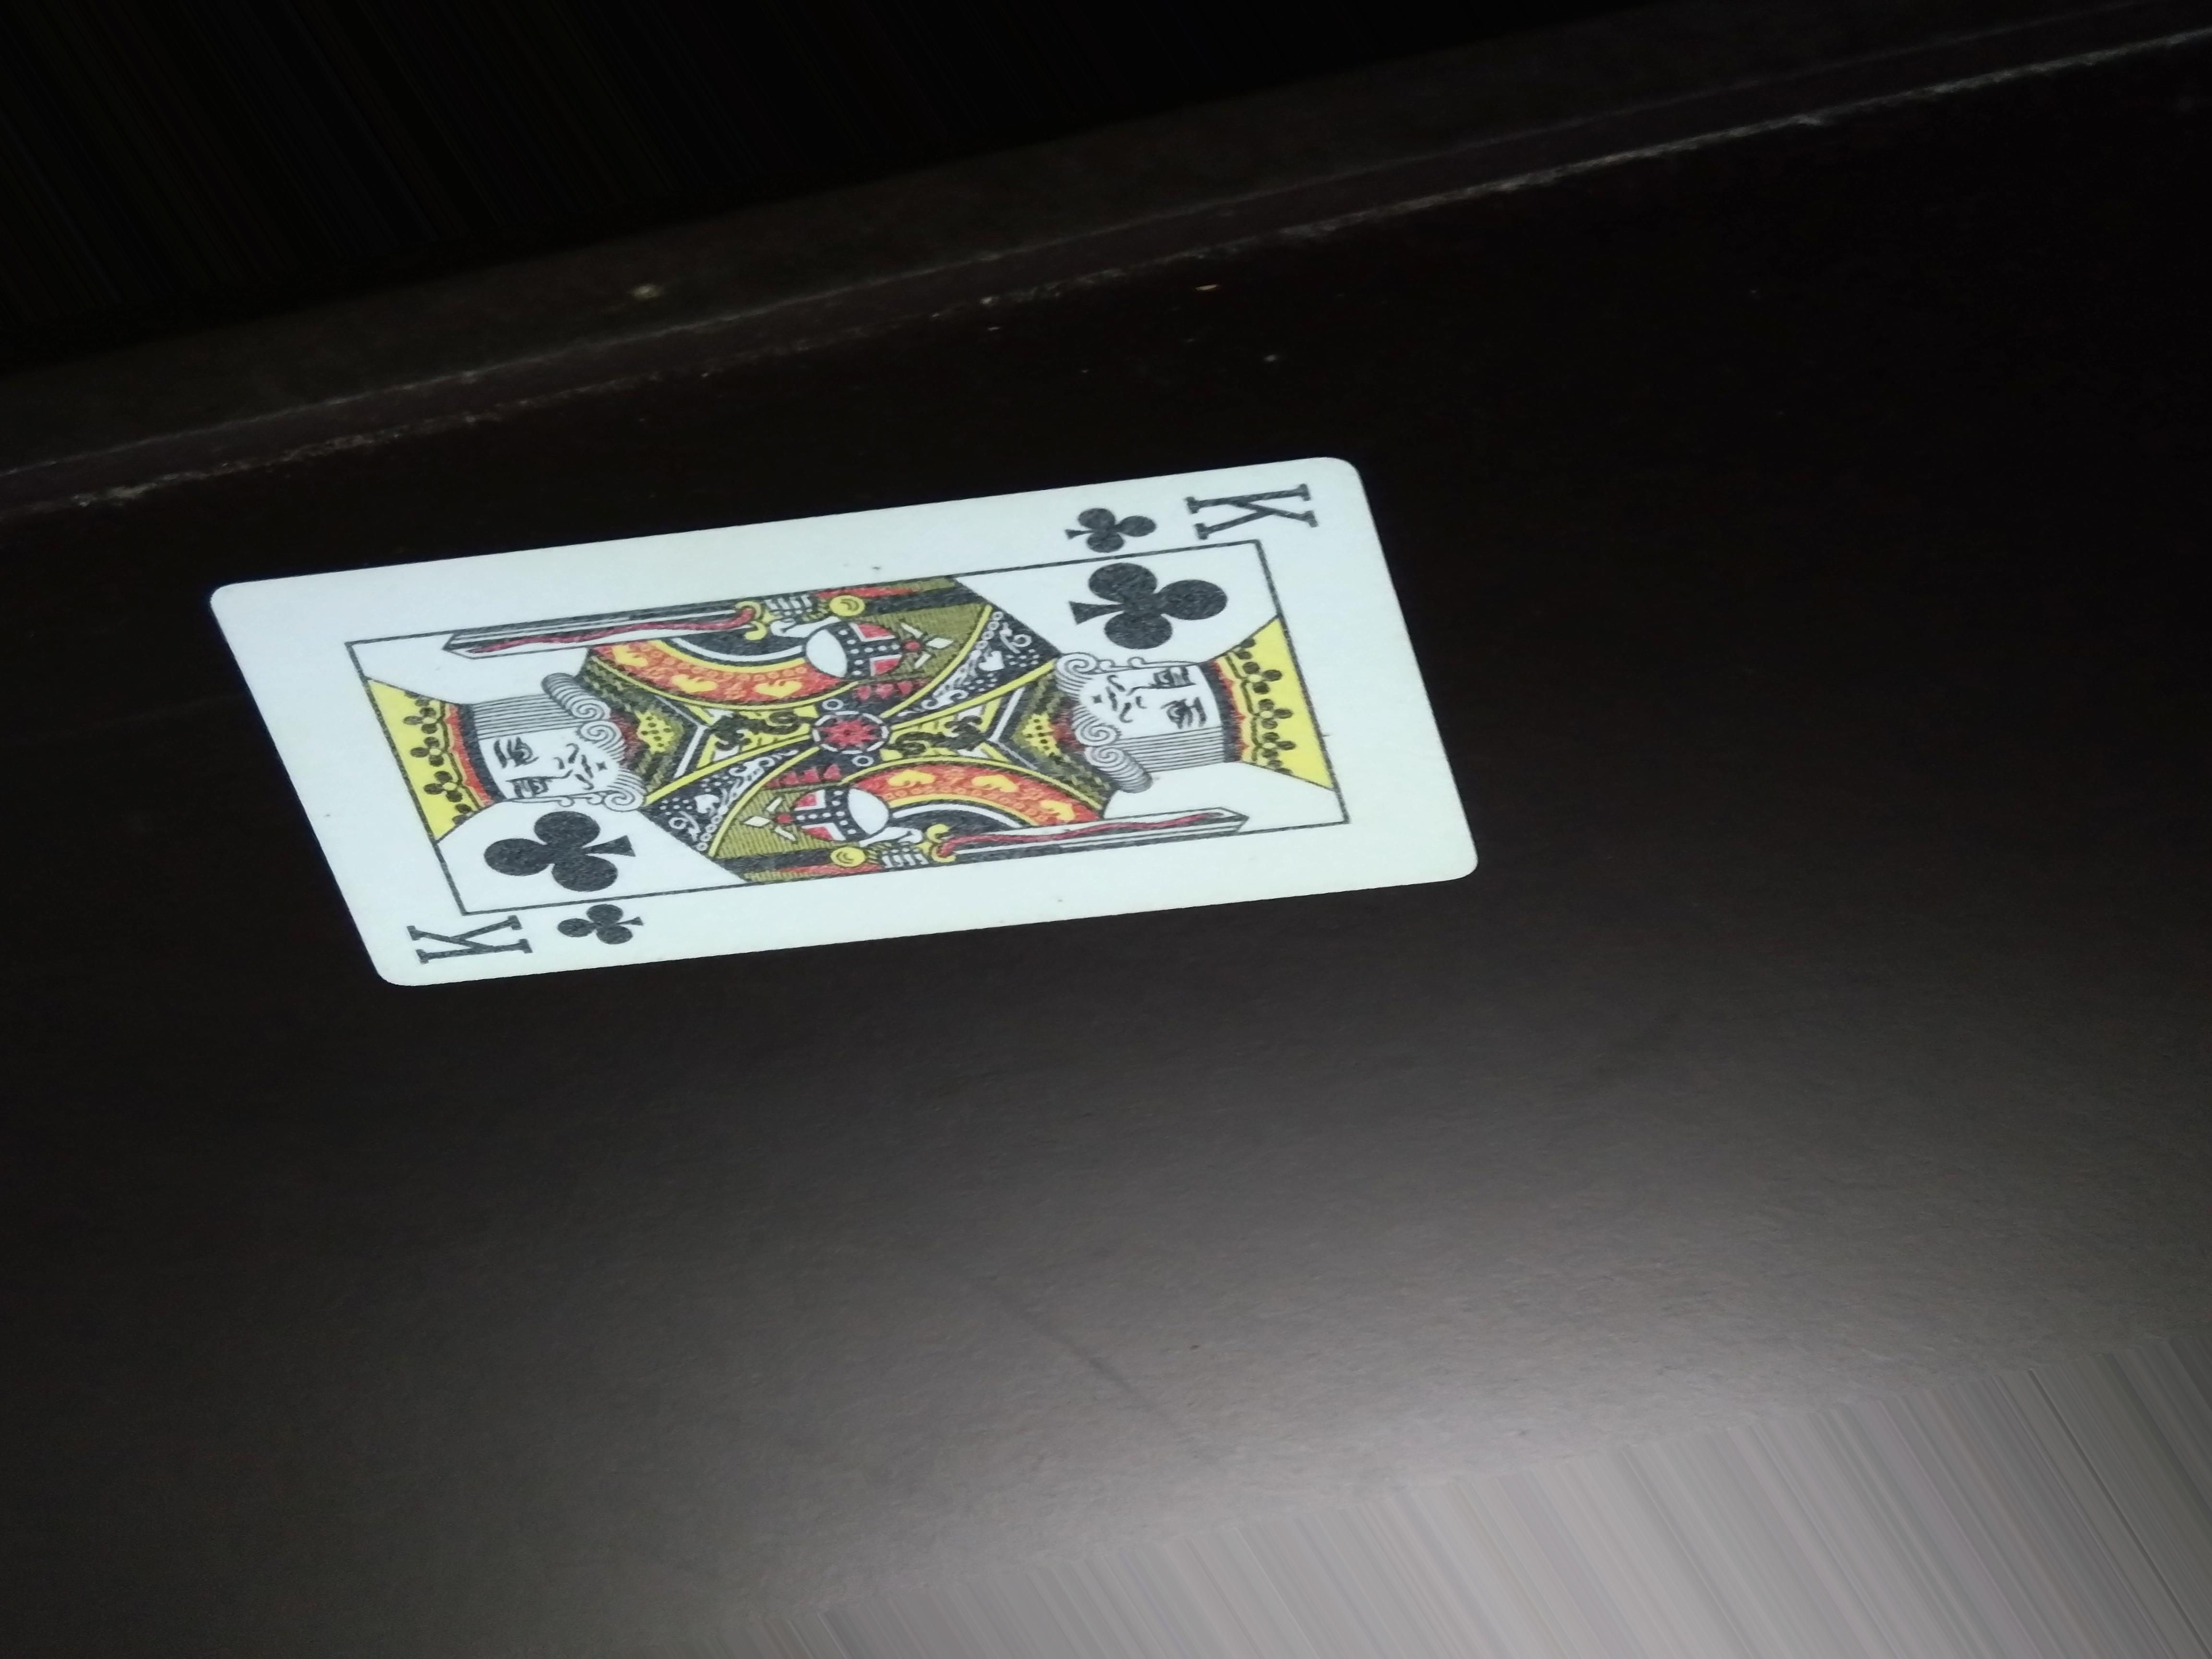KC: (1052, 467, 1339, 563)
